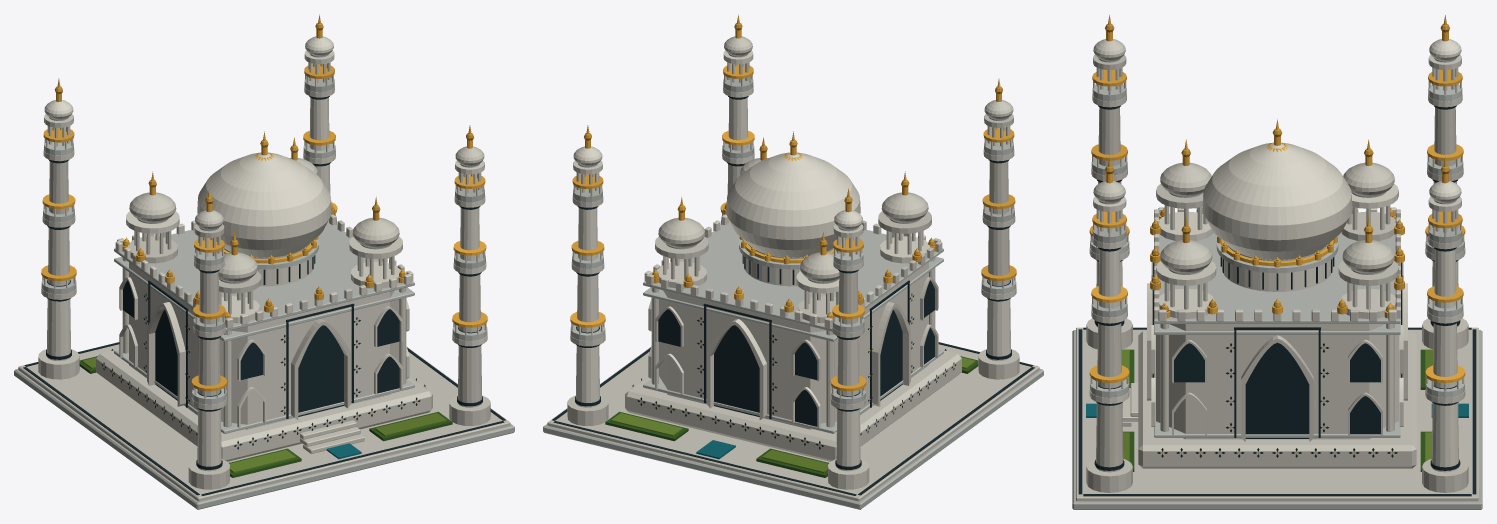
The model's file is fort_3.glb.
3 views of the same model, side by side, from view 1: azimuth 30°, elevation 25°; view 2: azimuth 150°, elevation 25°; view 3: azimuth 270°, elevation 25° (orthographic). The views are drawn at different scales.
Parts seen in each view (by area): view 1: fort_3_structure, fort_3_brass; view 2: fort_3_structure, fort_3_brass; view 3: fort_3_structure, fort_3_brass.
Boxes of the visible parts, x1=… form: fort_3_structure: x1=14, y1=23, x2=514, y2=509; fort_3_brass: x1=41, y1=14, x2=487, y2=445; fort_3_structure: x1=543, y1=23, x2=1043, y2=509; fort_3_brass: x1=570, y1=14, x2=1016, y2=445; fort_3_structure: x1=1072, y1=24, x2=1482, y2=509; fort_3_brass: x1=1089, y1=15, x2=1465, y2=453.
Bounding box in the file's own units: 7.6 × 6.93 × 7.6.
